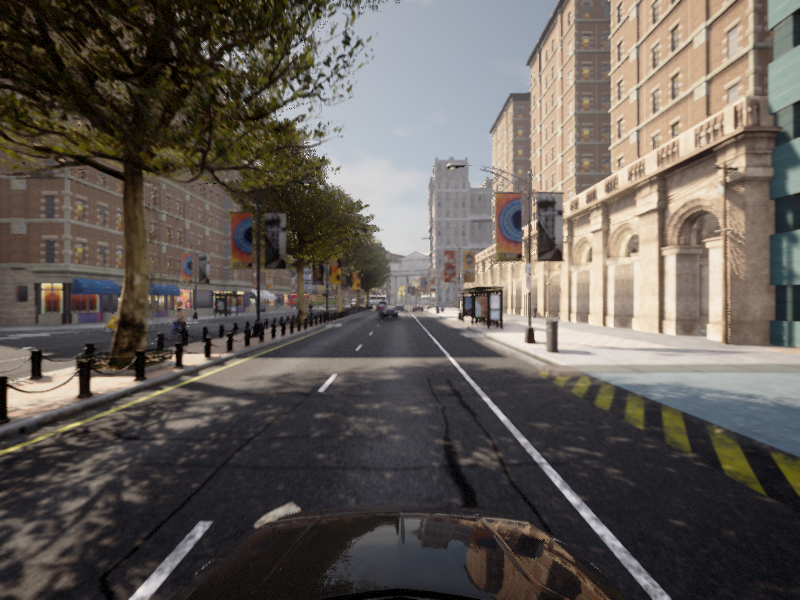vehicle: (161, 308, 194, 340), (100, 307, 139, 334), (377, 306, 399, 319)
